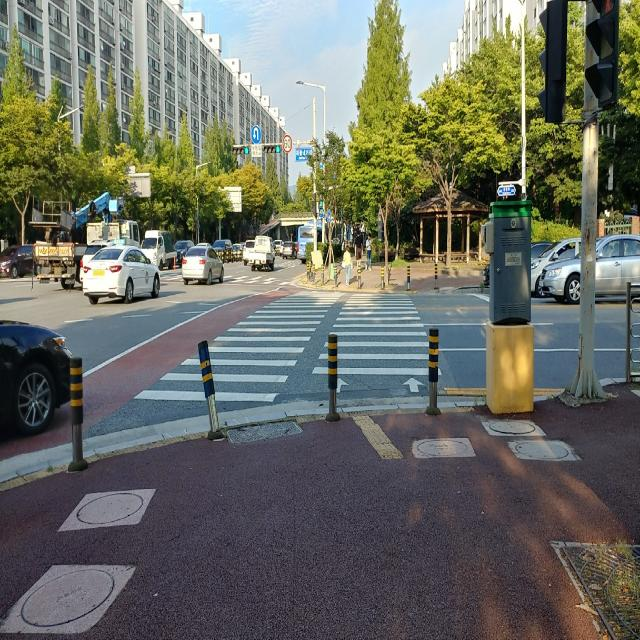횡단보도: (133, 290, 442, 402)
